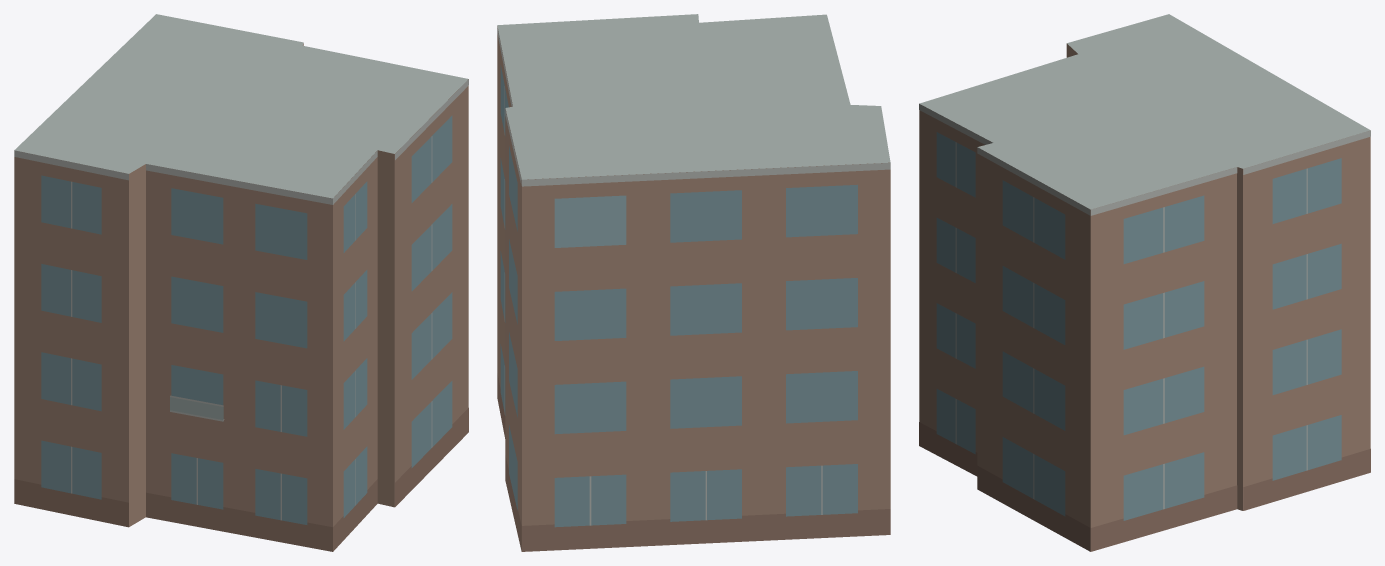
The model's file is survey-upis-33040124.glb.
The picture shows the model from 3 angles, left to right: view 1: azimuth 30°, elevation 25°; view 2: azimuth 150°, elevation 25°; view 3: azimuth 270°, elevation 25°; orthographic projection. The views are drawn at different scales.
Parts seen in each view (by area): view 1: survey-upis-33040124.tmp; view 2: survey-upis-33040124.tmp; view 3: survey-upis-33040124.tmp.
Part boxes in pixels (box(x1,y1,x2,y2)): survey-upis-33040124.tmp: box(14, 14, 468, 551); survey-upis-33040124.tmp: box(497, 14, 890, 551); survey-upis-33040124.tmp: box(919, 14, 1370, 551).
Size of the model in its own units: 16.19 by 13.2 by 15.8.
